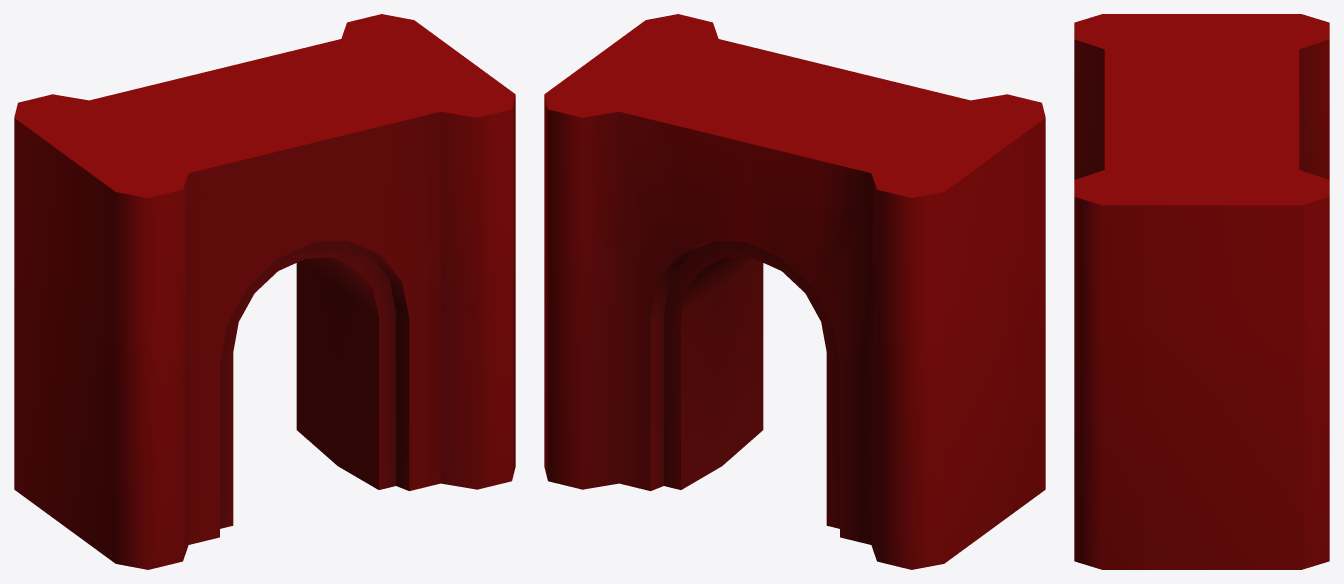
The model's file is buildings-ruins-cathedralruins_v7.fbx.
3 views of the same model, side by side, from view 1: azimuth 30°, elevation 25°; view 2: azimuth 150°, elevation 25°; view 3: azimuth 270°, elevation 25° (orthographic).
Parts seen in each view (by area): view 1: CathedralRuins_v7; view 2: CathedralRuins_v7; view 3: CathedralRuins_v7.
Part boxes in pixels (bbox=[...]): CathedralRuins_v7: bbox=[14, 14, 515, 569]; CathedralRuins_v7: bbox=[544, 14, 1045, 569]; CathedralRuins_v7: bbox=[1074, 14, 1329, 569].
Bounding box in the file's own units: 9.2 × 8.3 × 5.19.
